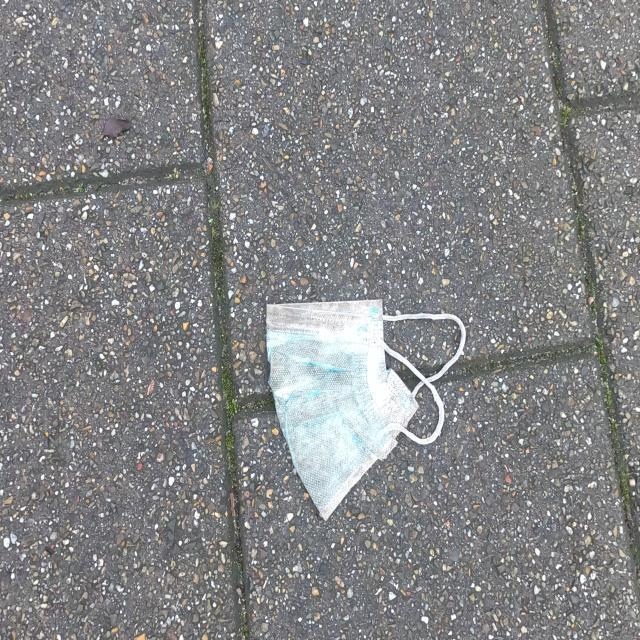Mask: (266, 294, 470, 516)
